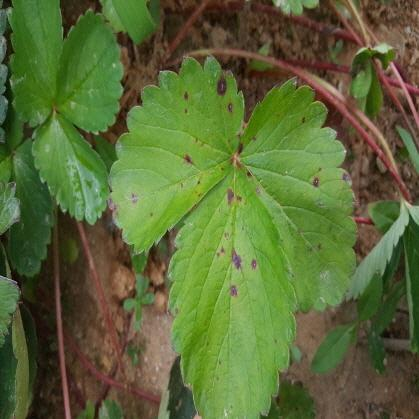Leaf Spot: (165, 159, 298, 418), (238, 75, 359, 314), (106, 52, 244, 257)
